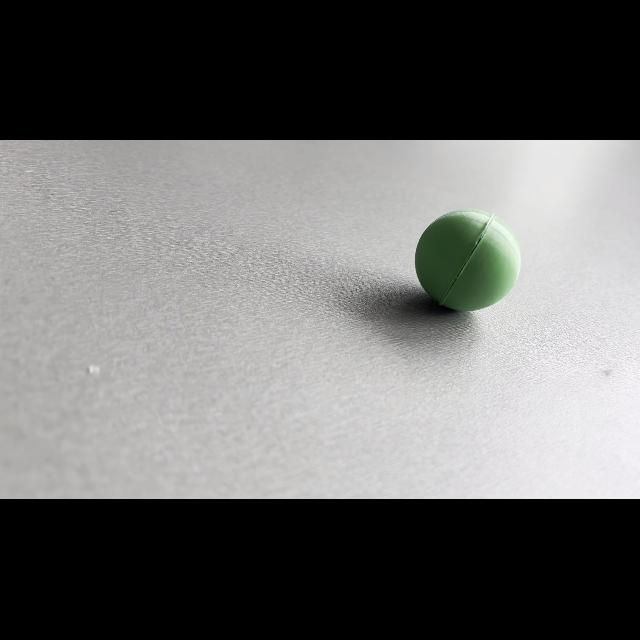objects: (410, 204, 526, 314)
